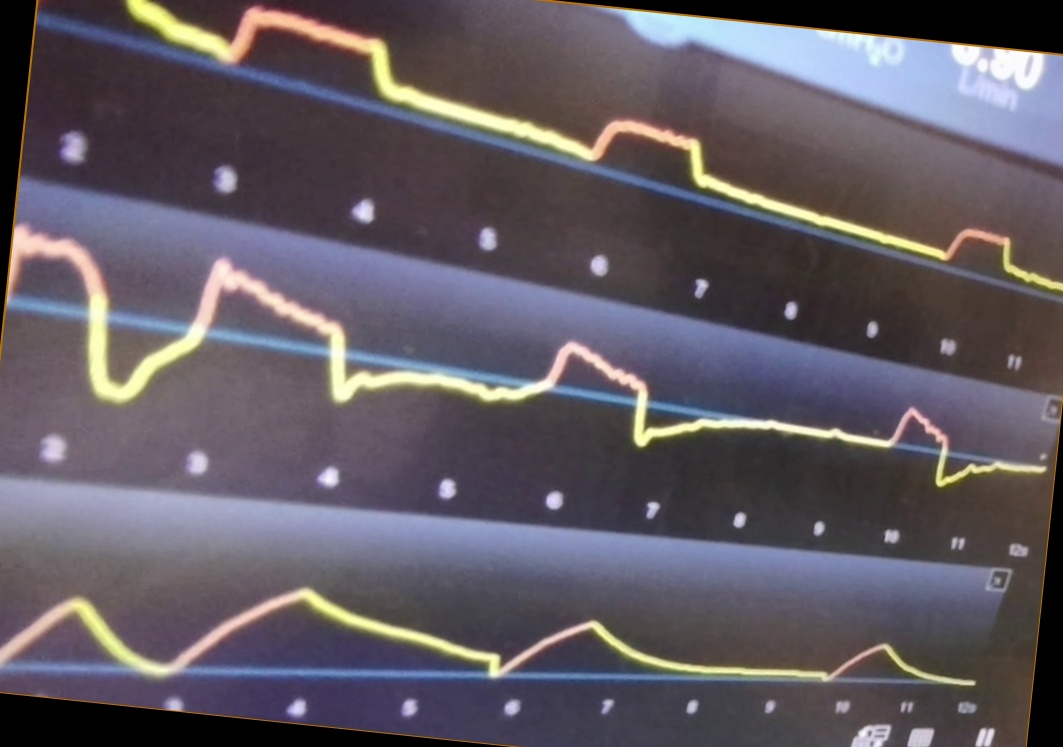Accumulation Flow: (11, 263, 1001, 490)
Volume: (1, 585, 972, 696)
